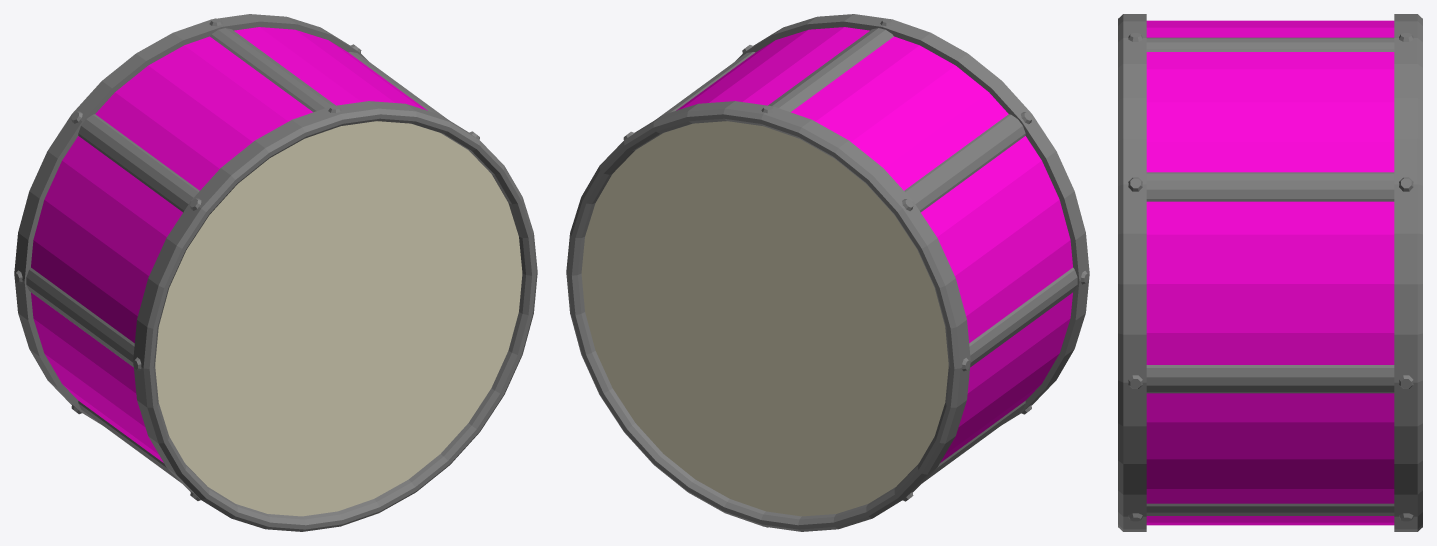
Rendered from Big_Drum.fbx.
3 renders of one model, left to right at view 1: azimuth 30°, elevation 25°; view 2: azimuth 150°, elevation 25°; view 3: azimuth 270°, elevation 25°, orthographic. The views are drawn at different scales.
Visible parts, largest first — view 1: Big_Drum; view 2: Big_Drum; view 3: Big_Drum.
Boxes of the visible parts, bbox=[...] form: Big_Drum: bbox=[14, 14, 537, 531]; Big_Drum: bbox=[566, 14, 1089, 531]; Big_Drum: bbox=[1118, 14, 1422, 531].
Size of the model in its own units: 265 by 265 by 154.
Materials: 1 (1 with a texture image).
